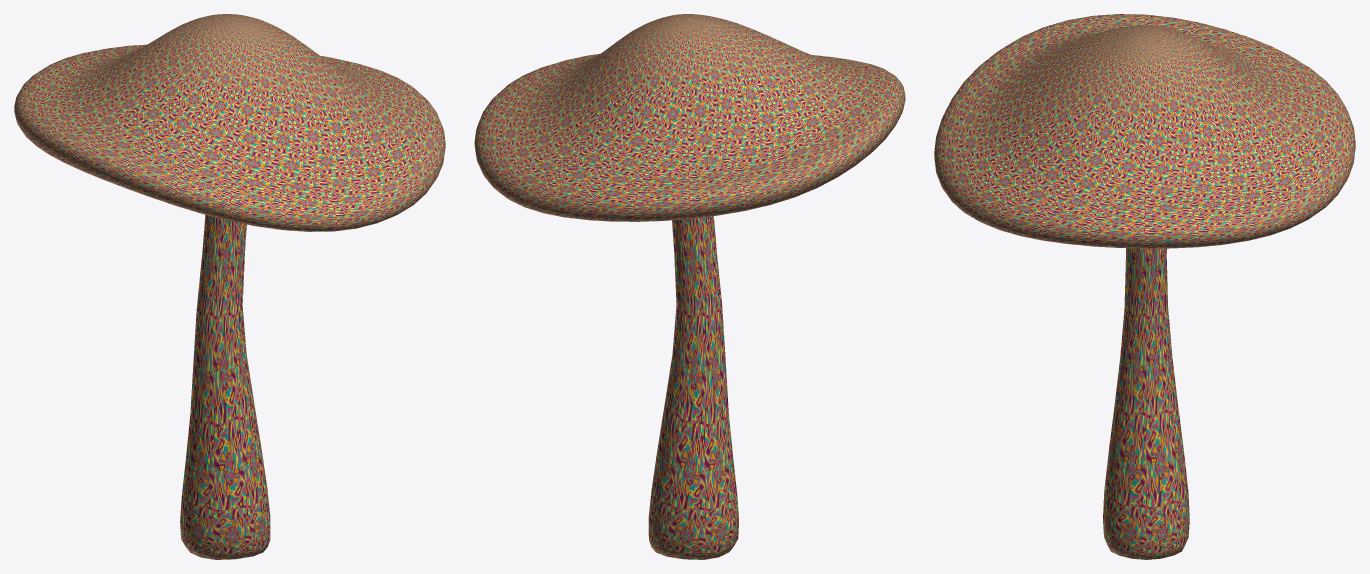
The model's file is new_mushroom.obj.
3 views of the same model, side by side, from view 1: azimuth 30°, elevation 25°; view 2: azimuth 150°, elevation 25°; view 3: azimuth 270°, elevation 25° (orthographic). The views are drawn at different scales.
Parts seen in each view (by area): view 1: cogumelo; view 2: cogumelo; view 3: cogumelo.
Boxes of the visible parts, x1=… form: cogumelo: x1=14, y1=14, x2=445, y2=559; cogumelo: x1=474, y1=14, x2=905, y2=559; cogumelo: x1=934, y1=14, x2=1355, y2=559.
Bounding box in the file's own units: 4 × 5.37 × 4.01.
1 material, 1 textured.
